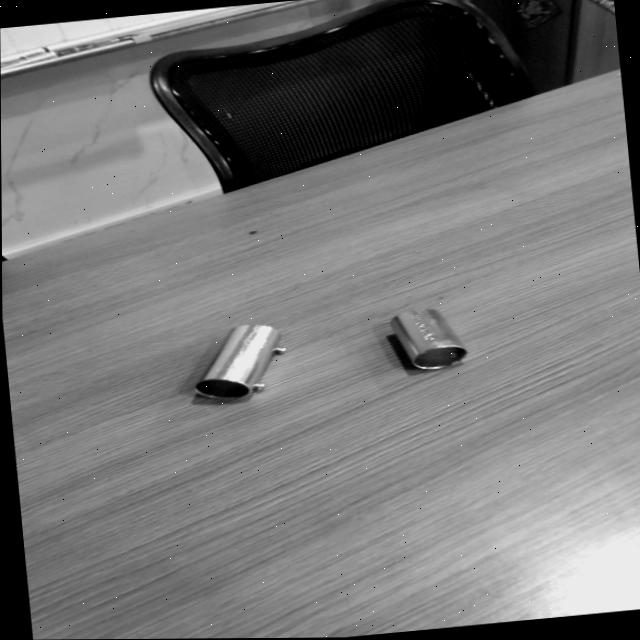Co_Lon: (191, 308, 291, 420)
Co_Nho: (385, 293, 468, 382)
